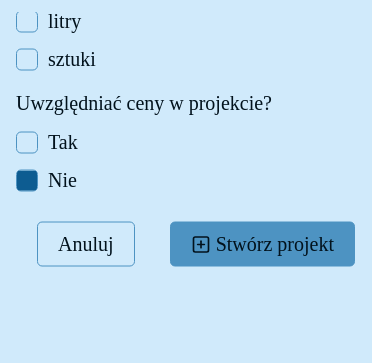
Scenario: NewProjectForm component › Should render currency options properly when showCurrencies is true
This screenshot has width=372, height=363.
Click the radio button labelled "Tak". click: (27, 142)
box: [16, 131, 38, 153]
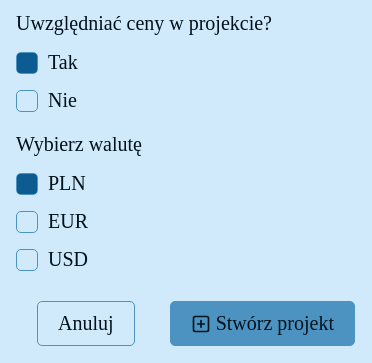
expect the text "Wybierz walutę" is shown: met, box [16, 133, 142, 155]
expect the radio button labelled "PLN" is shown: met, box [16, 172, 38, 194]
expect the radio button labelled "EUR" is shown: met, box [16, 210, 38, 232]
